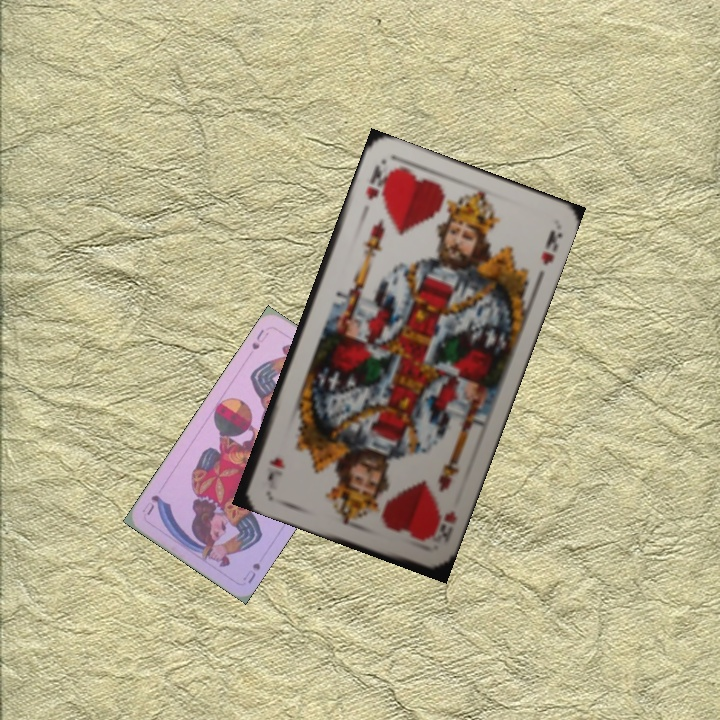HK: (425, 502, 460, 547), (361, 159, 393, 202)
SU: (247, 325, 272, 353), (239, 559, 263, 586)
